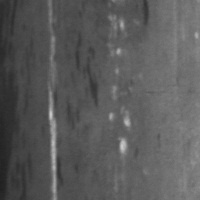inclusion: (0, 34, 29, 200), (70, 34, 102, 108)
scratches: (105, 12, 133, 157), (44, 6, 60, 199)
